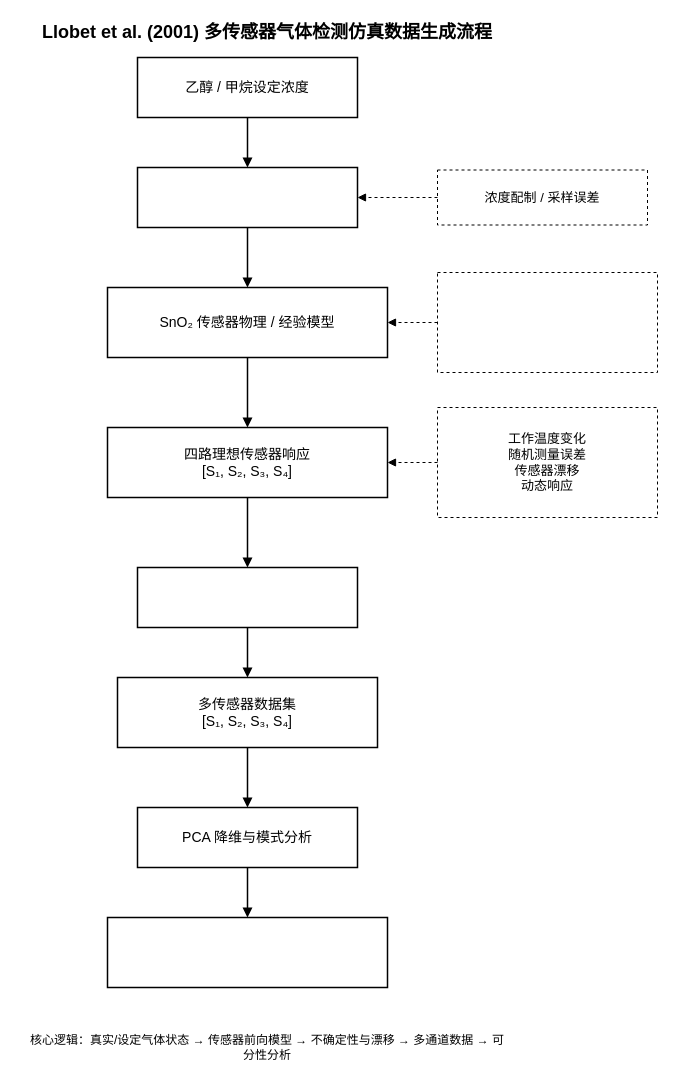
Image size: 675x1084. Some labels were removed from this diagram. The centre of each missing label's shape, as x and y in pixels:
Monte Carlo 重复生成: the point at 247,597
传感器 1 参数 传感器 2 参数 传感器 3 参数 传感器 4 参数: the point at 547,322
实际气体浓度: the point at 247,197
评价不同气体 / 混合气可分性: the point at 247,952
